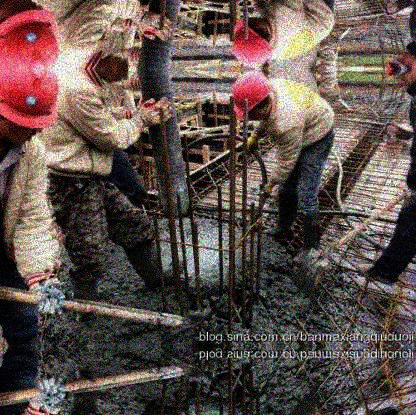helmet: (1, 70, 59, 147), (230, 72, 272, 122), (230, 16, 273, 63)
